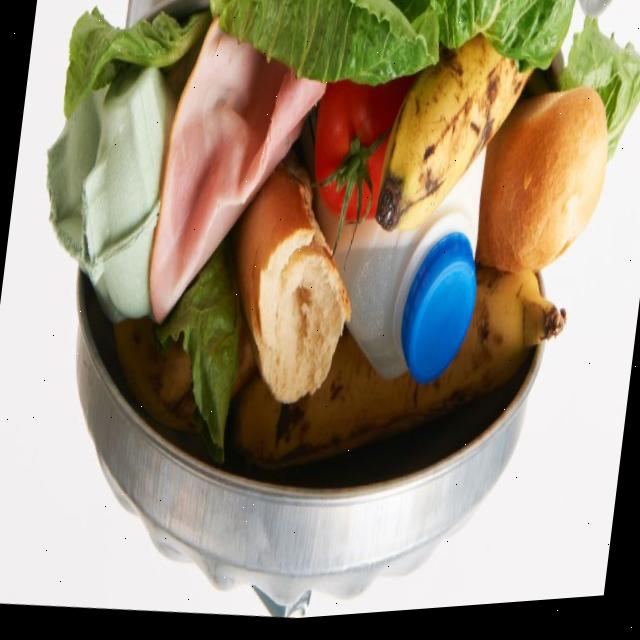Wet: (136, 21, 299, 346), (225, 187, 362, 413), (362, 59, 522, 249), (476, 79, 614, 294), (306, 85, 394, 242)
